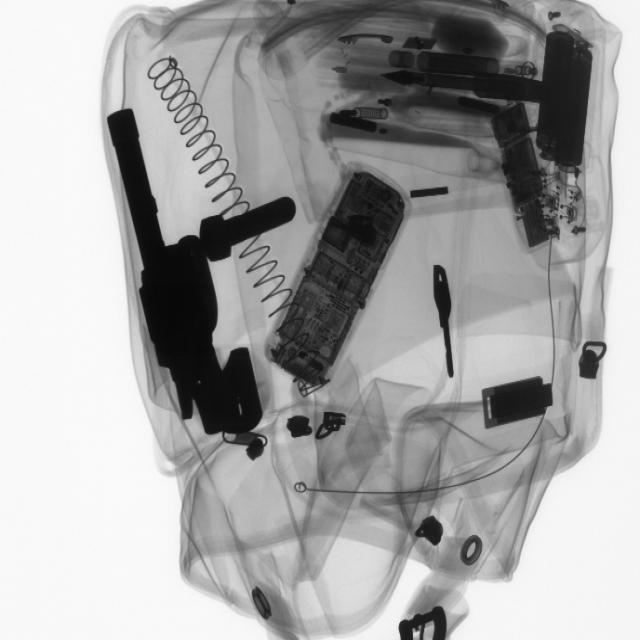GUN: (106, 97, 252, 448)
